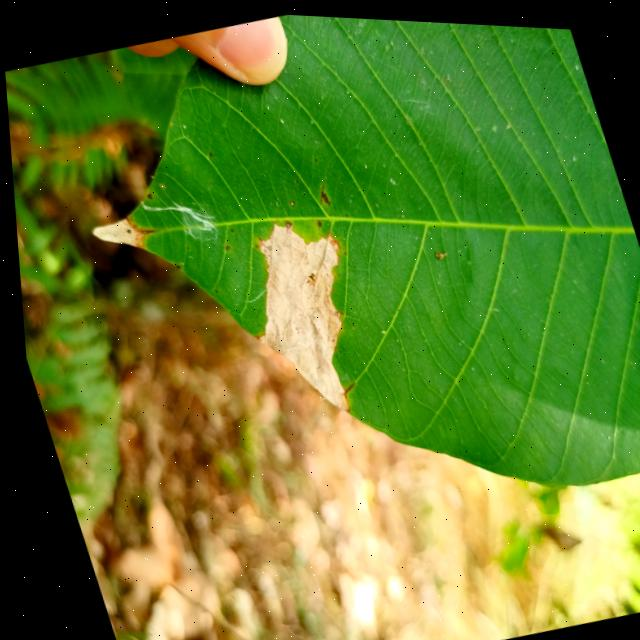Colletotrichum: (281, 216, 289, 224), (286, 196, 292, 203), (314, 216, 319, 224), (263, 241, 269, 246), (292, 175, 296, 180), (339, 246, 343, 251), (250, 241, 255, 245), (346, 318, 349, 321), (259, 245, 262, 248)
Corynespora: (311, 177, 329, 204), (336, 376, 351, 390)
Leaf-Blight: (218, 204, 385, 425)
